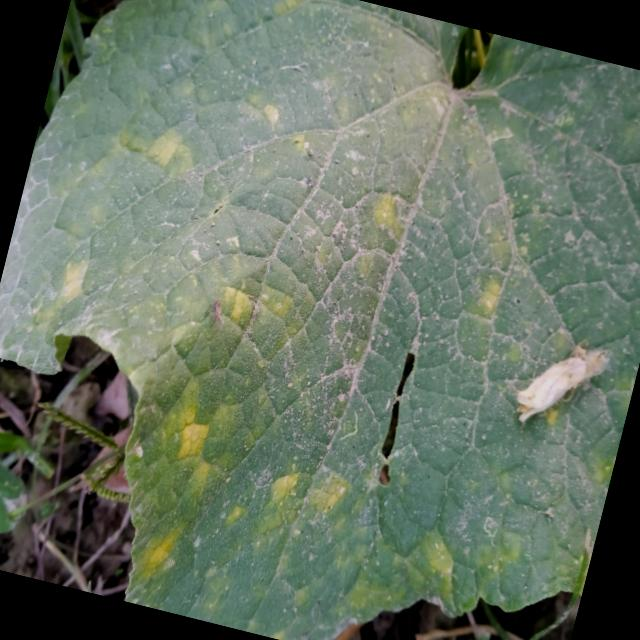cucumber_downy: (0, 26, 543, 640)
